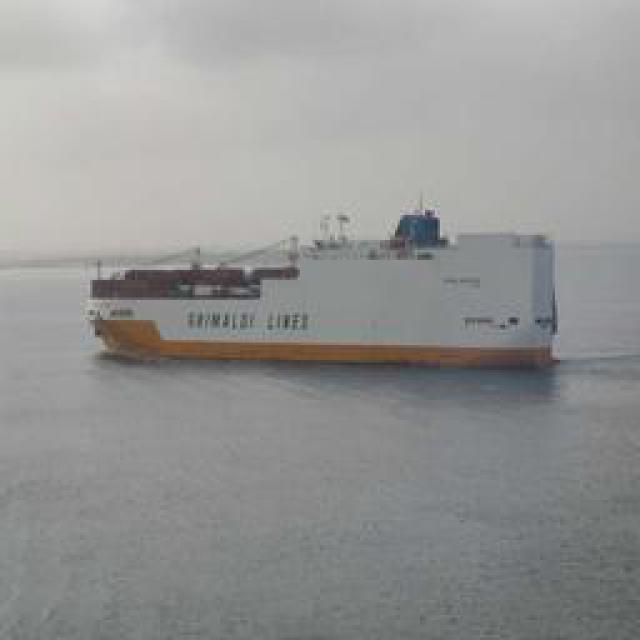Ship: (91, 217, 566, 367)
